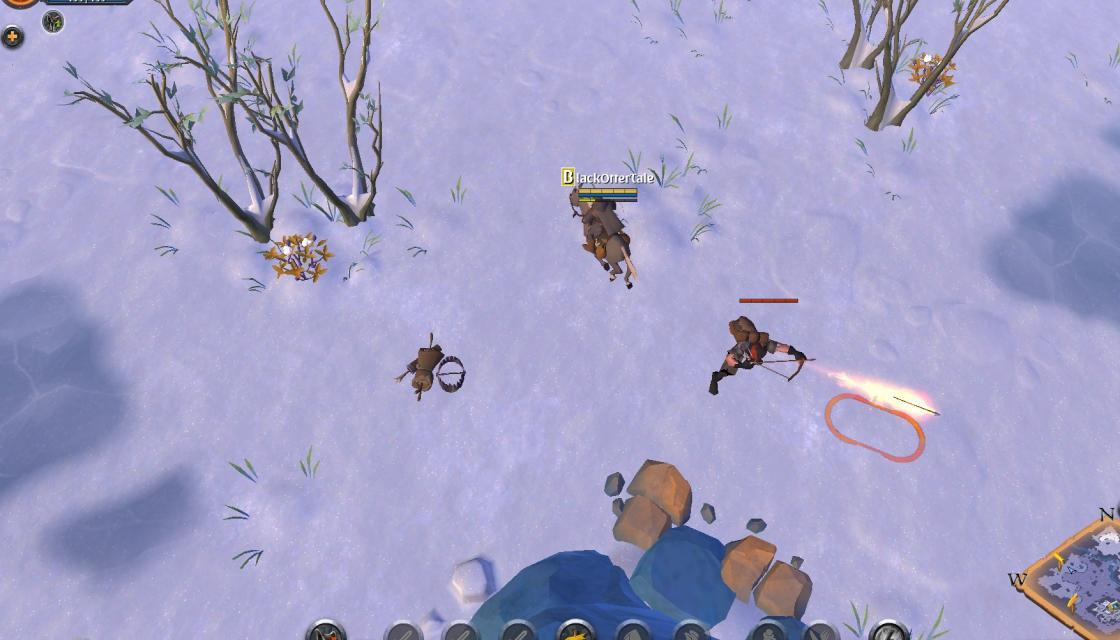limestone: (597, 442, 704, 557), (713, 532, 824, 622)
